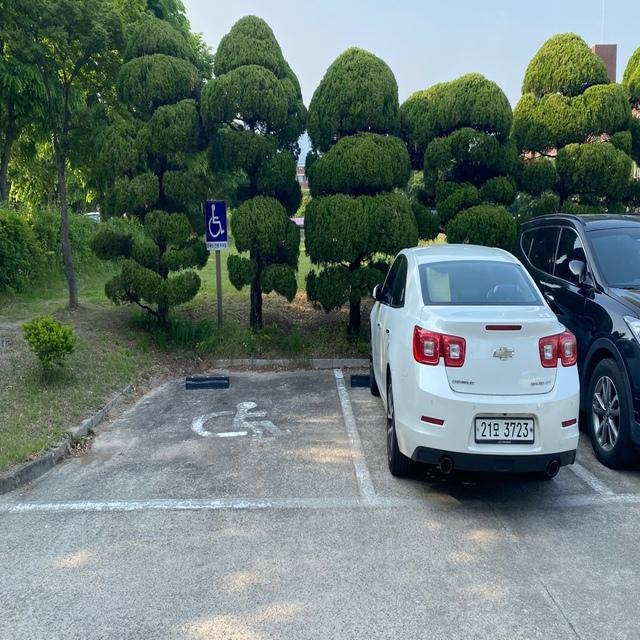empty: (6, 361, 384, 512)
occupied: (363, 245, 585, 484)
